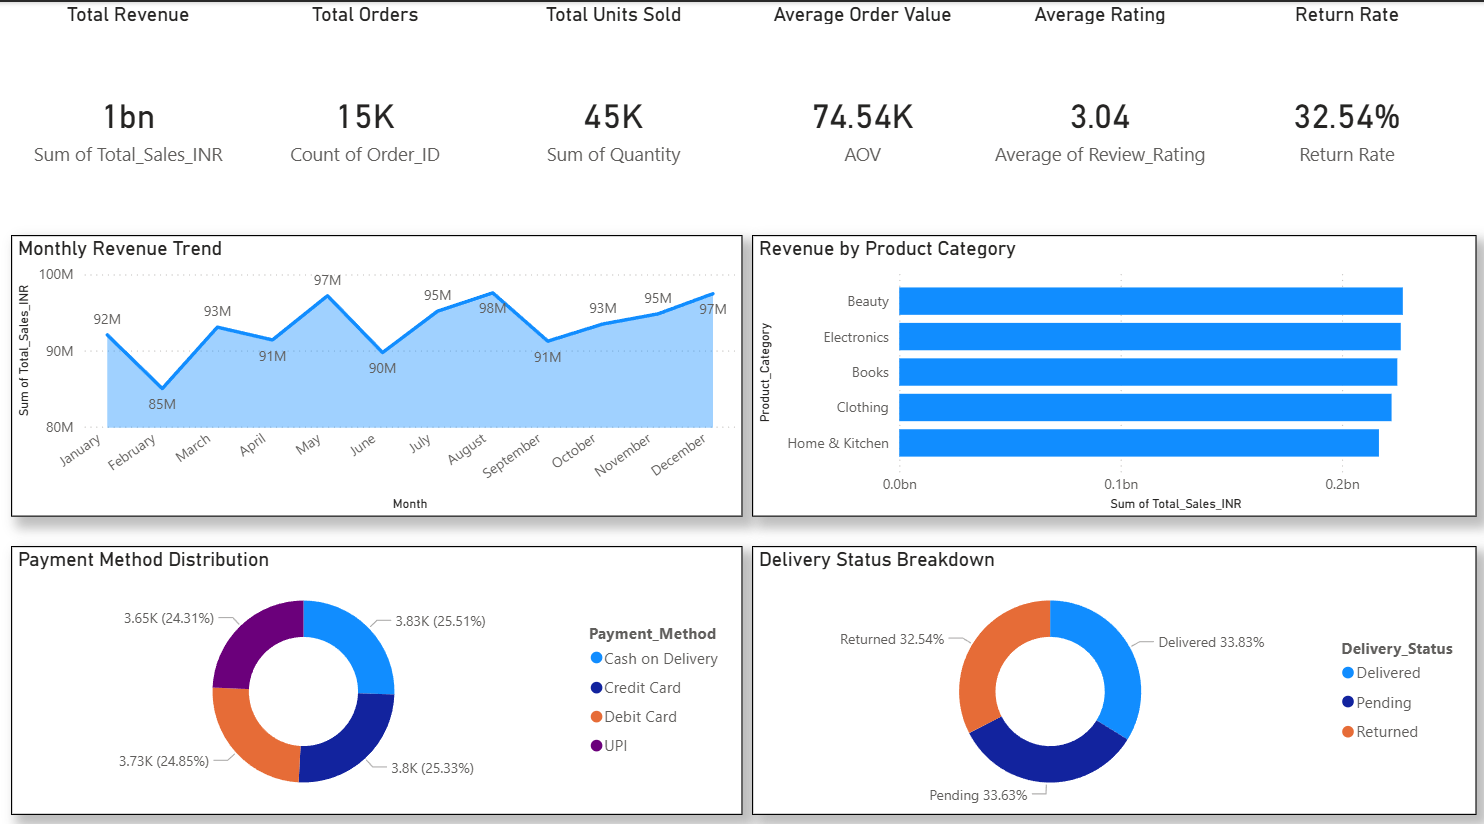

The dashboard page shown, as its layout file describes it:
{"tool":"powerbi","page":{"name":"Sales Overview","canvas":[1280,720],"ordinal":0},"visuals":[{"type":"card","title":"Total Revenue","fields":{"Values":["Sum(amazon_sales_2025_cleaned.Total_Sales_INR)"]},"box":[9.5,0,201.8,194.9],"z":0},{"type":"card","title":"Total Orders","fields":{"Values":["CountNonNull(amazon_sales_2025_cleaned.Order_ID)"]},"box":[211.3,0,207,194.9],"z":1000},{"type":"card","title":"Total Units Sold","fields":{"Values":["Sum(amazon_sales_2025_cleaned.Quantity)"]},"box":[418.3,0,221.7,194.9],"z":2000},{"type":"card","title":"Average Order Value","fields":{"Values":["amazon_sales_2025_cleaned.AOV"]},"box":[640,0,207.9,194.9],"z":3000},{"type":"card","title":"Average Rating","fields":{"Values":["Avg(amazon_sales_2025_cleaned.Review_Rating)"]},"box":[847.9,0,201.8,194.9],"z":4000},{"type":"card","title":"Return Rate","fields":{"Values":["amazon_sales_2025_cleaned.Return Rate"]},"box":[1049.7,0,224.3,194.9],"z":5000},{"type":"lineChart","title":"Monthly Revenue Trend","fields":{"Y":["Sum(amazon_sales_2025_cleaned.Total_Sales_INR)"],"Category":["amazon_sales_2025_cleaned.Date.Variation.Date Hierarchy.Month"]},"box":[9.5,201,630.5,243.2],"z":6000},{"type":"clusteredBarChart","title":"Revenue by Product Category","fields":{"Y":["Sum(amazon_sales_2025_cleaned.Total_Sales_INR)"],"Category":["amazon_sales_2025_cleaned.Product_Category"]},"box":[648.6,201,625.3,243.2],"z":7000},{"type":"donutChart","title":"Payment Method Distribution","fields":{"Category":["amazon_sales_2025_cleaned.Payment_Method"],"Y":["CountNonNull(amazon_sales_2025_cleaned.Order_ID)"]},"box":[9.5,469.2,630.5,232],"z":8000},{"type":"donutChart","title":"Delivery Status Breakdown","fields":{"Category":["amazon_sales_2025_cleaned.Delivery_Status"],"Y":["CountNonNull(amazon_sales_2025_cleaned.Order_ID)"]},"box":[648.6,469.2,625.3,232],"z":9000}]}

Visuals, with their boxes in screenshot pixels (x1, y1, x2, y2), scaled from the page's 1280x720 canvas onto the 1484x824 screenshot:
"Total Revenue" card: select_region(11, 0, 245, 223)
"Total Orders" card: select_region(245, 0, 485, 223)
"Total Units Sold" card: select_region(485, 0, 742, 223)
"Average Order Value" card: select_region(742, 0, 983, 223)
"Average Rating" card: select_region(983, 0, 1217, 223)
"Return Rate" card: select_region(1217, 0, 1477, 223)
"Monthly Revenue Trend" lineChart: select_region(11, 230, 742, 508)
"Revenue by Product Category" clusteredBarChart: select_region(752, 230, 1477, 508)
"Payment Method Distribution" donutChart: select_region(11, 537, 742, 802)
"Delivery Status Breakdown" donutChart: select_region(752, 537, 1477, 802)
